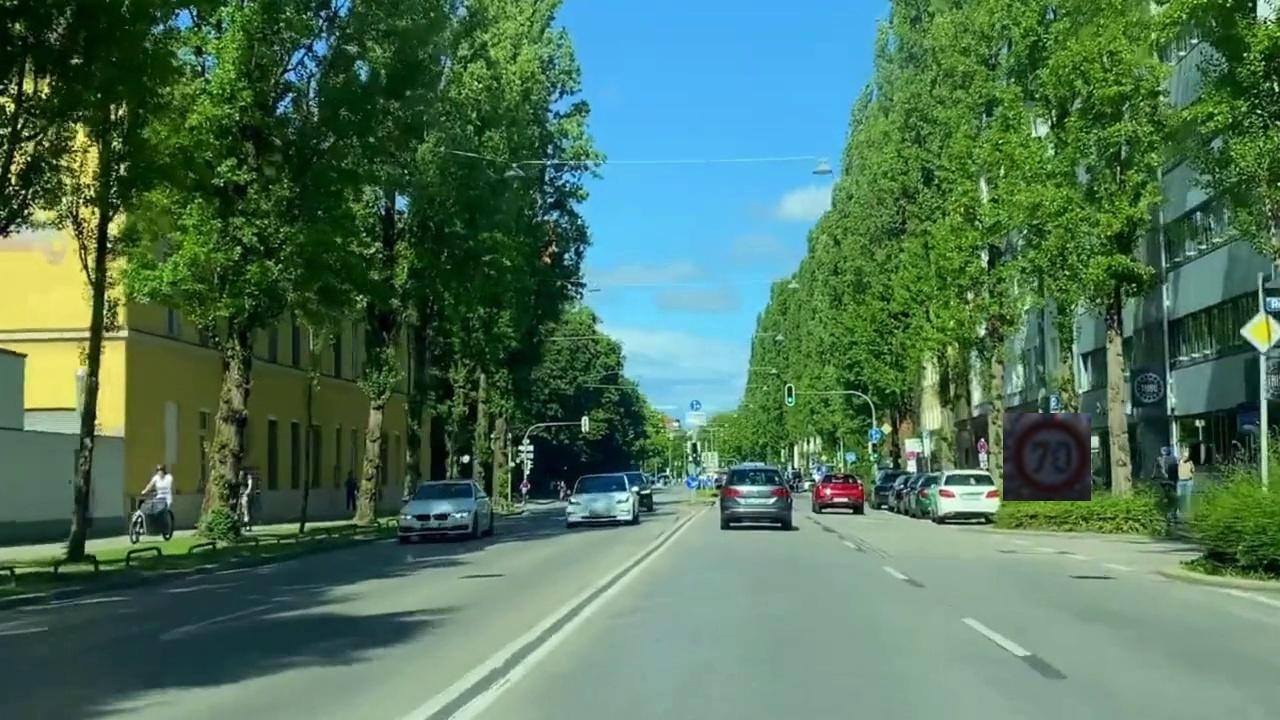Speed 70: (1003, 413, 1091, 501)
